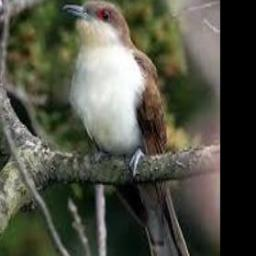Cuckoo: (61, 2, 202, 256)
